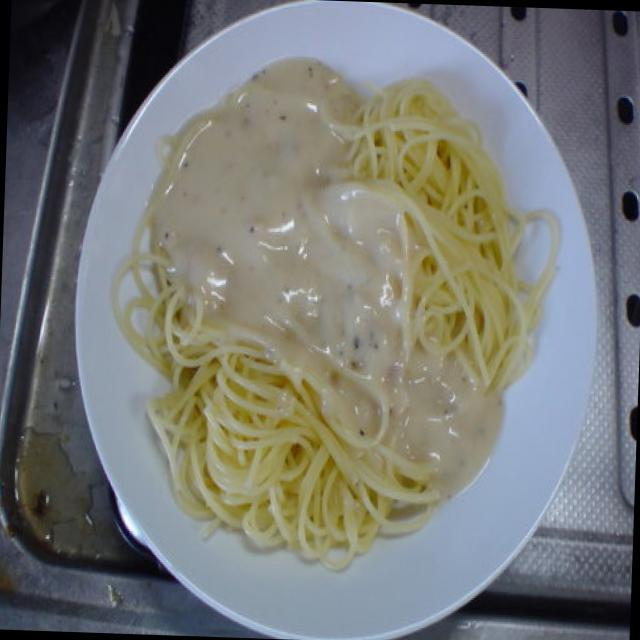Pasta: (122, 50, 536, 568)
